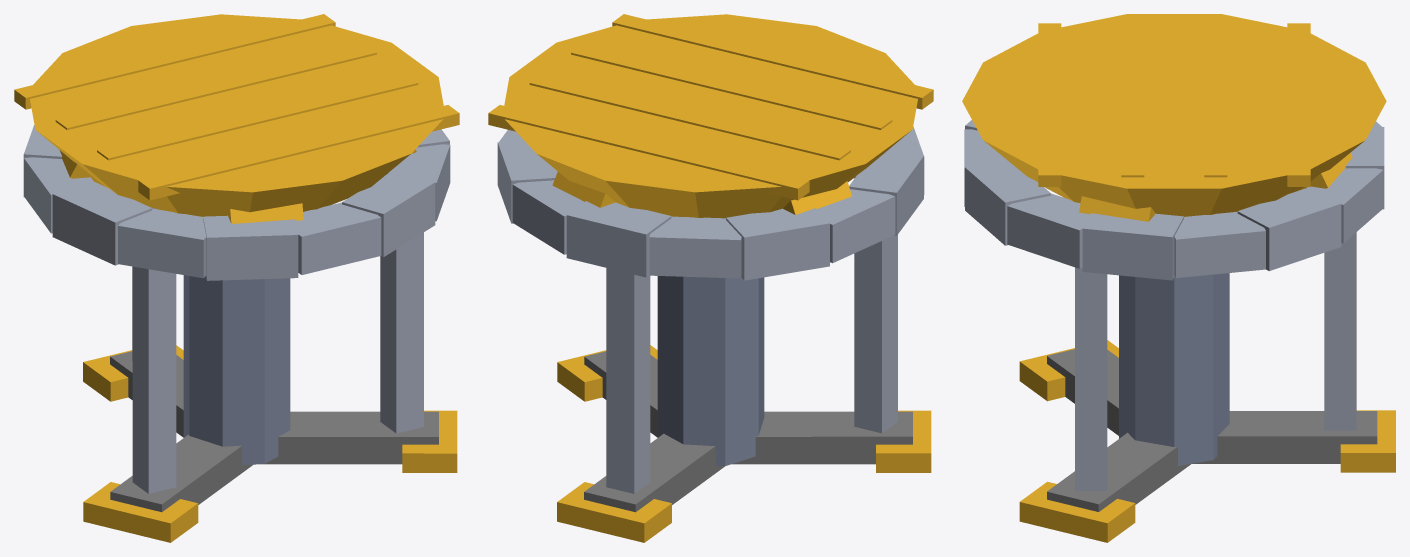
The model's file is fan_vertical.glb.
3 views of the same model, side by side, from view 1: azimuth 30°, elevation 25°; view 2: azimuth 150°, elevation 25°; view 3: azimuth 270°, elevation 25° (orthographic).
Parts seen in each view (by area): view 1: fan_vertical; view 2: fan_vertical; view 3: fan_vertical.
Boxes of the visible parts, x1,y1,x2,y2 form: fan_vertical: [14, 14, 459, 542]; fan_vertical: [488, 14, 933, 542]; fan_vertical: [962, 14, 1395, 542].
Bounding box in the file's own units: 1 × 0.895 × 1.
